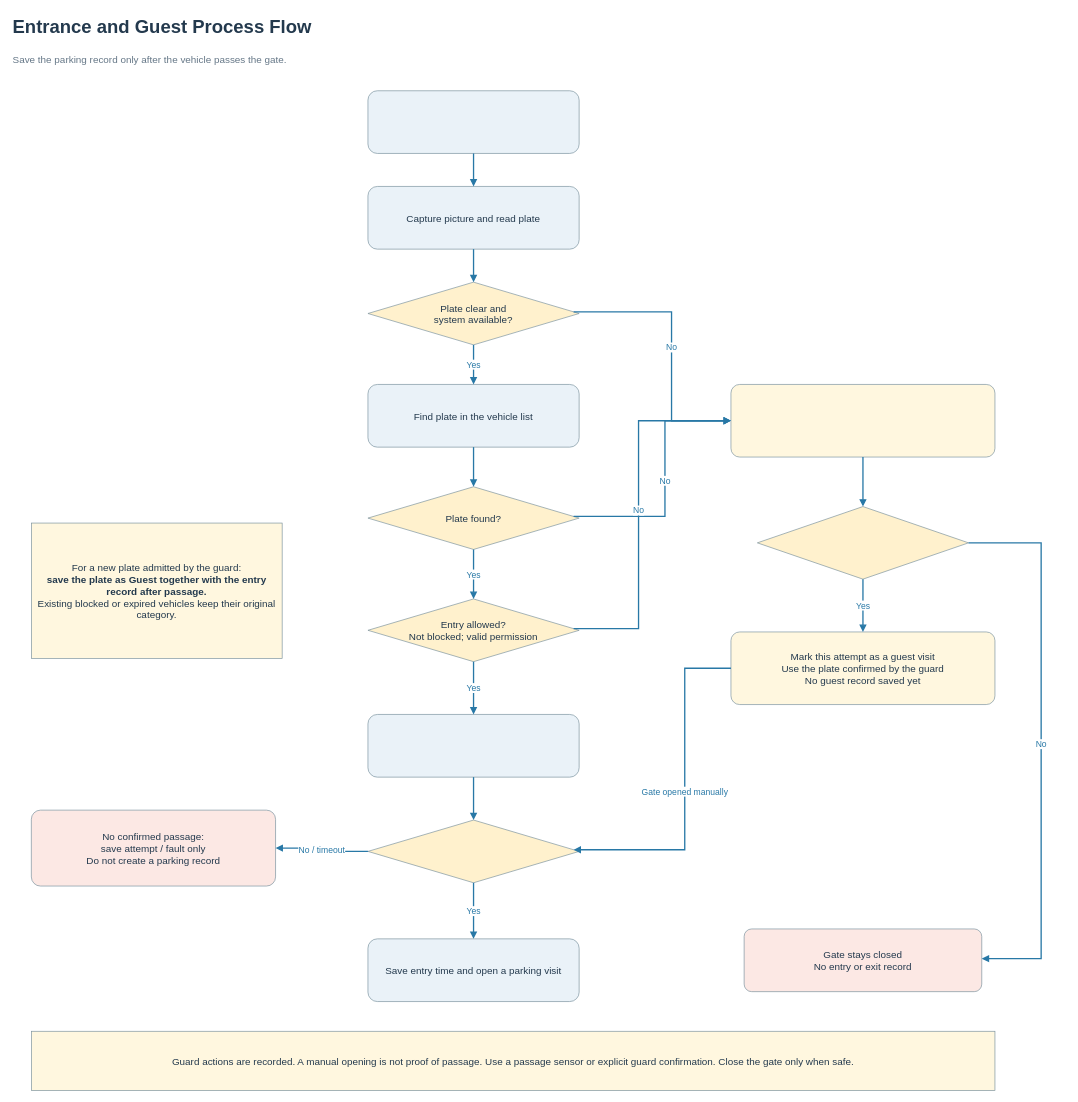
Image size: 1078x1102. Some labels were removed from this diagram. Here are the shapes that lost their labels. From the top down, the box of each, then its label:
(367, 90, 579, 153): Vehicle reaches entrance
(730, 384, 995, 457): Keep gate closed Guard checks / corrects the plate Guard decides whether to open
(757, 506, 969, 579): Guard opens the gate?
(367, 714, 579, 777): Request gate opening
(367, 819, 579, 883): Vehicle passed the gate?
